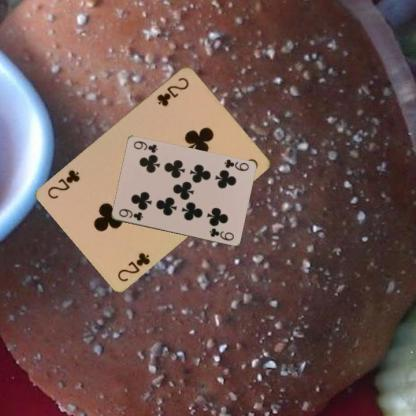2c: (114, 249, 152, 283), (154, 74, 190, 107)
9c: (116, 206, 144, 222), (221, 157, 250, 172)
